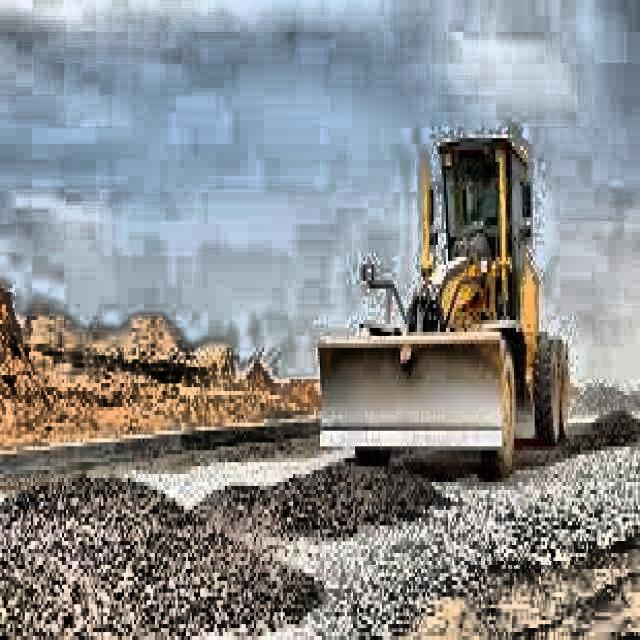bull_dozer/loader/grader: (314, 123, 575, 481)
person: (478, 173, 501, 234)
